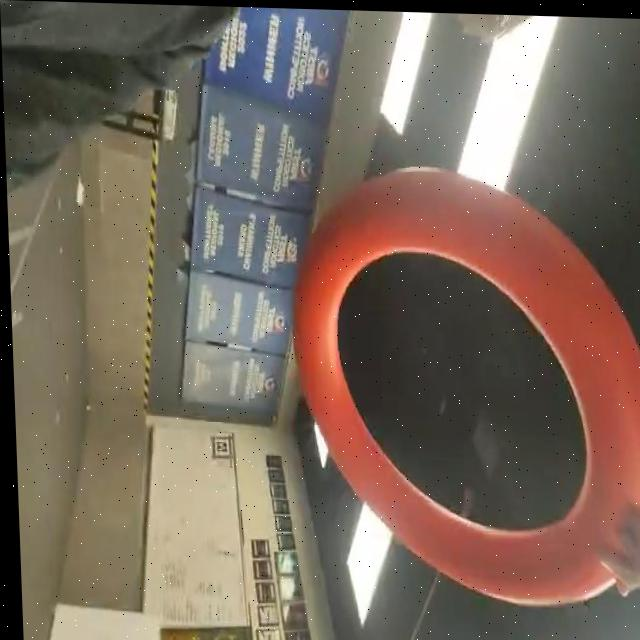note: (279, 157, 640, 610)
